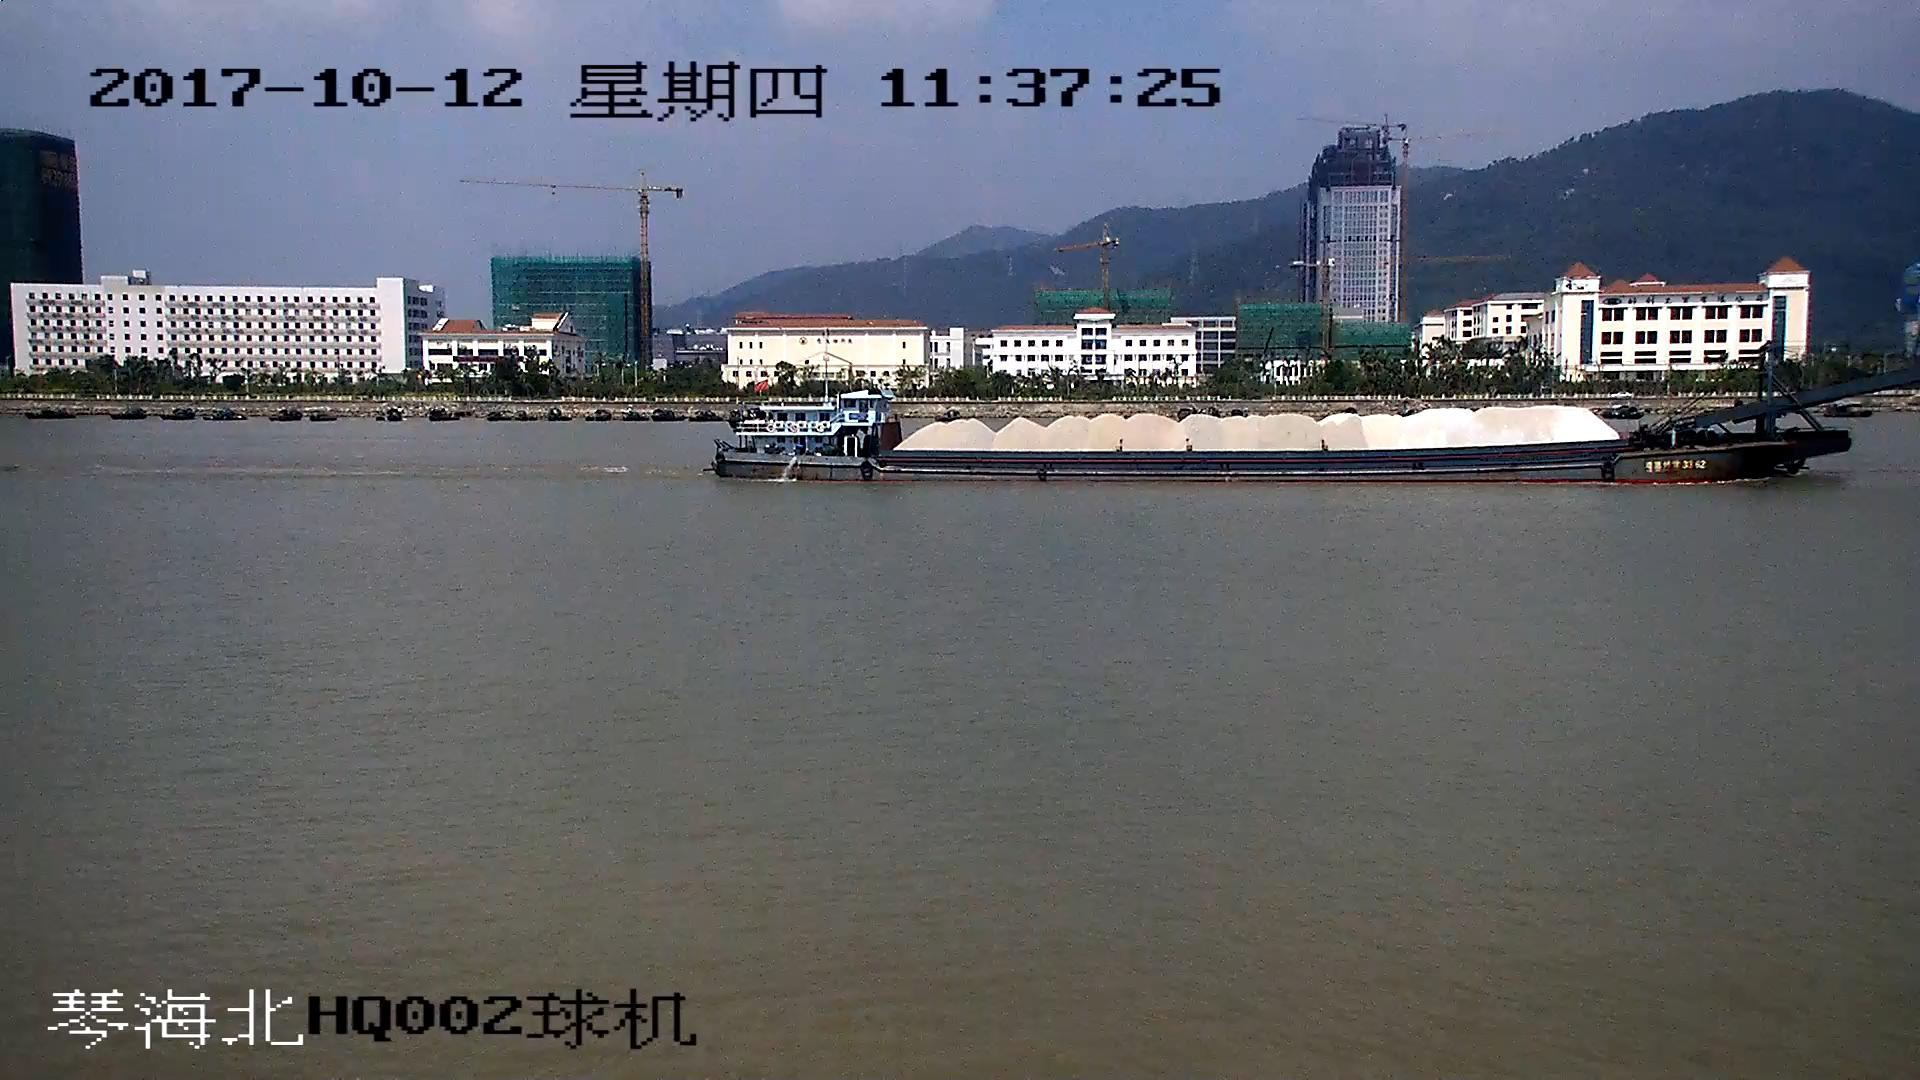ore carrier: (721, 353, 1920, 482)
